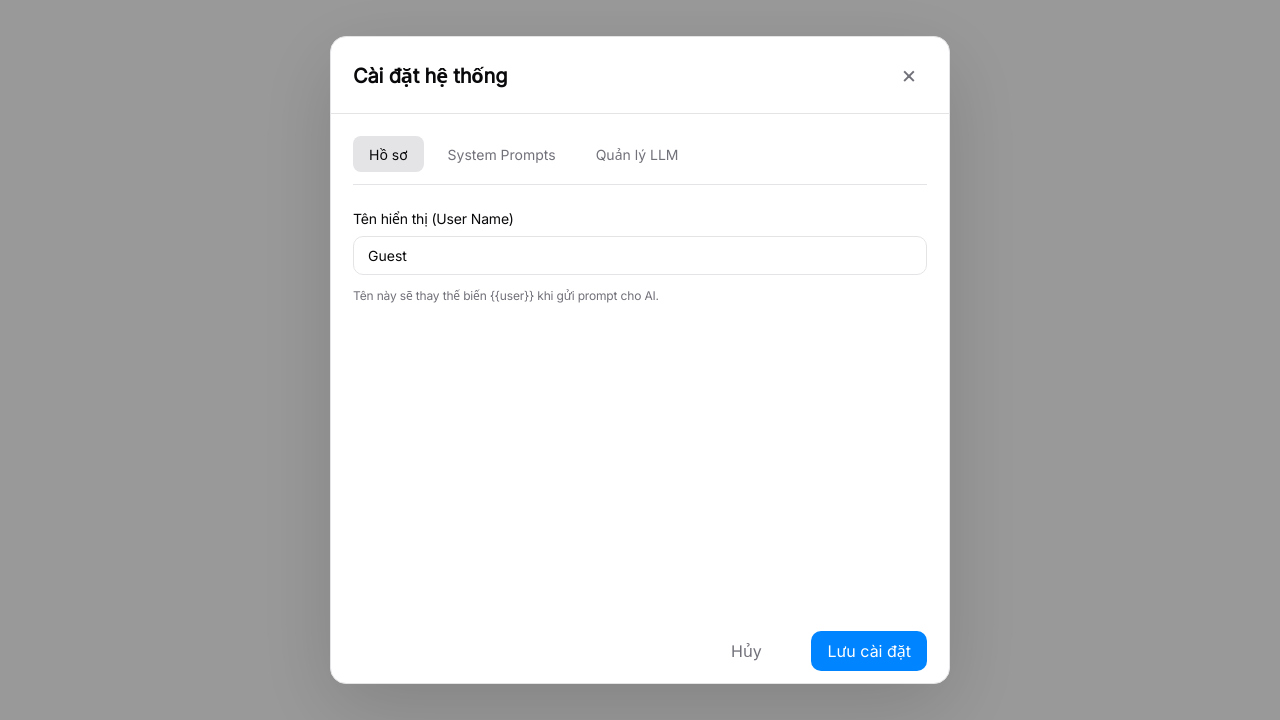
SettingsModal › switches to System Prompts tab on click
Step 1. Click the button "System Prompts" → (502, 154), box [432,136,572,172]
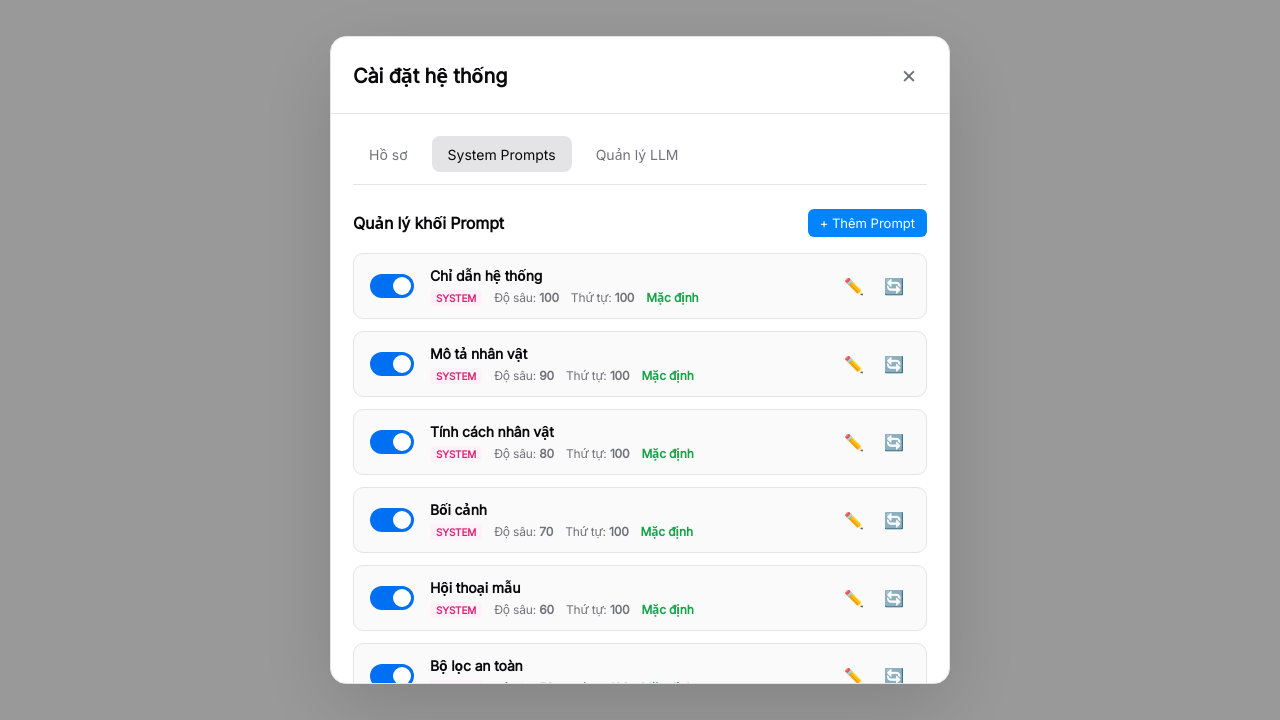
Expected: the heading "Quản lý khối Prompt" is shown, [353,212,504,234]
